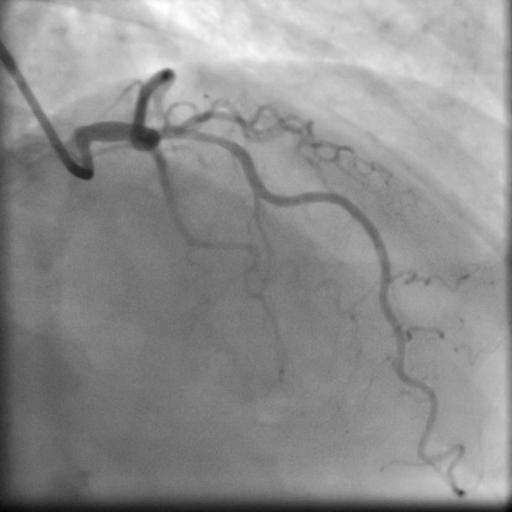Stenosis: (176, 127, 223, 146)
